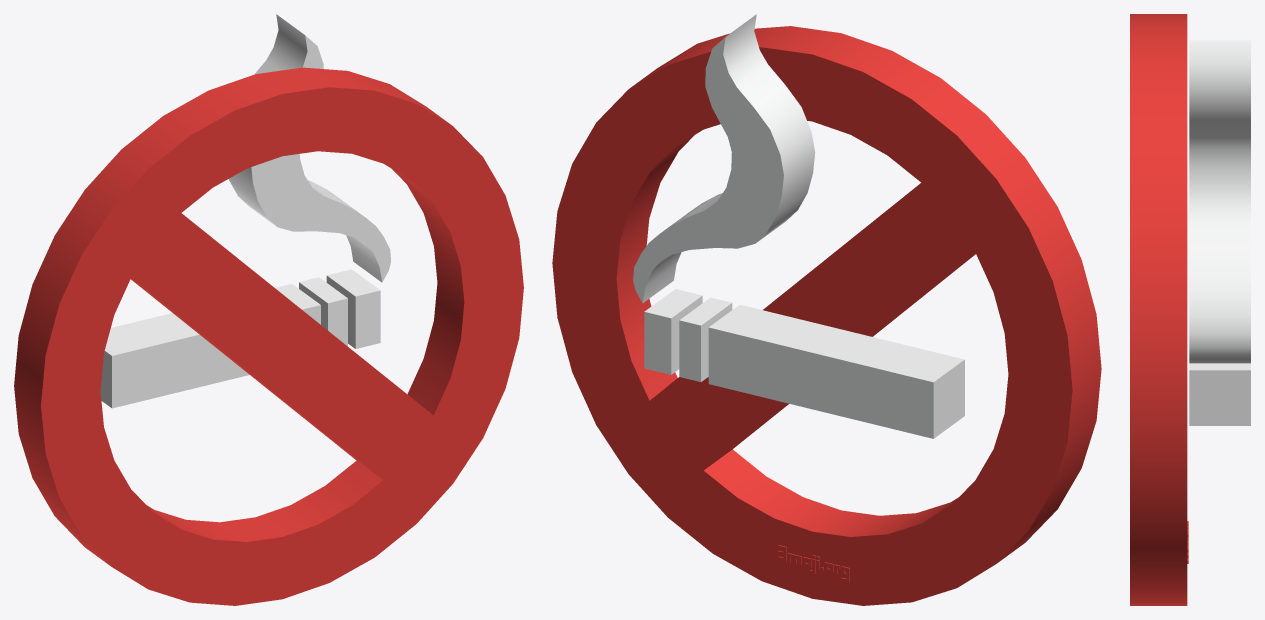
The model's file is no_smoking.glb.
3 renders of one model, left to right at view 1: azimuth 30°, elevation 25°; view 2: azimuth 150°, elevation 25°; view 3: azimuth 270°, elevation 25°, orthographic. The views are drawn at different scales.
Visible parts, largest first — view 1: Circle.2622; view 2: Circle.2622; view 3: Circle.2622.
Boxes of the visible parts, x1,y1,x2,y2 form: Circle.2622: (14,14,523,605); Circle.2622: (552,14,1101,605); Circle.2622: (1130,14,1250,605).
Bounding box in the file's own units: 1.92 × 2.02 × 0.3926.
Materials: 1 (1 with a texture image).
